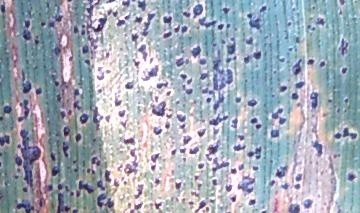tarspot: (15, 128, 42, 193), (84, 1, 111, 50), (308, 112, 324, 158), (209, 49, 225, 90), (88, 104, 104, 134), (237, 172, 256, 195), (123, 149, 139, 176), (141, 11, 156, 39), (55, 191, 70, 213), (205, 139, 220, 161), (141, 64, 159, 82), (246, 12, 262, 32), (17, 98, 30, 122), (208, 113, 230, 127), (76, 178, 94, 195), (150, 102, 169, 118), (211, 156, 229, 172), (212, 91, 226, 110), (21, 19, 33, 41), (197, 17, 218, 29), (308, 90, 319, 111), (339, 35, 349, 58), (291, 58, 303, 77), (274, 164, 288, 180), (138, 43, 149, 63), (95, 65, 106, 83), (270, 106, 284, 120), (192, 3, 204, 19), (122, 135, 138, 147), (226, 37, 236, 56), (129, 32, 139, 51), (16, 202, 33, 213), (95, 192, 106, 209), (133, 183, 144, 200), (174, 111, 189, 123), (131, 57, 141, 75), (113, 90, 123, 108), (61, 140, 70, 159), (190, 45, 203, 58), (1, 133, 12, 148), (152, 125, 163, 140), (181, 134, 193, 147), (287, 201, 300, 213), (21, 80, 32, 94), (229, 117, 240, 131), (243, 34, 254, 48), (225, 67, 233, 86), (253, 147, 262, 163), (104, 167, 112, 185), (194, 201, 206, 213), (90, 155, 102, 167), (155, 81, 171, 90), (72, 99, 83, 112), (274, 53, 287, 64), (50, 164, 60, 178), (232, 142, 246, 152), (96, 179, 105, 194), (269, 128, 280, 140), (246, 98, 258, 109), (210, 126, 221, 138), (196, 127, 207, 139), (177, 123, 188, 135), (161, 30, 173, 41), (161, 14, 173, 25), (136, 1, 147, 13), (114, 17, 126, 28), (346, 171, 357, 183), (302, 197, 313, 209), (123, 80, 136, 90), (104, 196, 114, 209), (62, 125, 71, 139), (314, 16, 325, 27), (294, 79, 305, 90), (252, 49, 262, 61), (317, 58, 327, 70), (188, 146, 200, 156), (198, 72, 210, 82), (53, 13, 65, 23), (122, 201, 132, 213), (341, 126, 350, 139), (175, 56, 184, 69), (38, 195, 46, 209), (133, 201, 144, 211), (118, 120, 129, 130), (197, 57, 208, 67), (13, 155, 22, 167), (180, 23, 189, 35), (74, 132, 82, 145), (151, 152, 159, 165), (53, 45, 61, 58), (305, 57, 315, 67), (173, 180, 183, 190), (124, 9, 134, 19), (247, 197, 257, 207), (79, 113, 88, 124), (35, 86, 44, 97), (3, 104, 12, 115), (349, 131, 358, 142), (225, 183, 234, 194), (117, 108, 126, 119), (44, 184, 55, 193), (279, 182, 290, 191), (113, 177, 120, 191), (242, 53, 250, 65), (188, 190, 200, 198), (173, 21, 180, 34), (220, 6, 230, 15), (258, 4, 267, 14), (290, 92, 300, 101), (278, 85, 288, 94), (233, 95, 243, 104), (235, 133, 245, 142), (228, 194, 238, 203), (196, 161, 205, 171), (153, 201, 162, 211), (178, 146, 188, 155), (53, 79, 62, 89), (200, 85, 209, 95), (237, 162, 246, 172), (104, 114, 112, 125), (182, 10, 193, 18), (294, 172, 302, 183), (341, 96, 350, 105), (245, 150, 254, 159), (195, 181, 203, 191), (121, 178, 129, 188), (179, 71, 187, 81), (186, 76, 194, 86), (294, 35, 302, 45), (253, 123, 264, 130), (116, 162, 123, 173), (59, 109, 66, 120), (183, 88, 194, 95), (55, 93, 62, 104), (81, 44, 88, 55), (121, 1, 132, 8), (340, 65, 348, 74), (333, 131, 341, 140), (326, 96, 334, 105), (278, 117, 287, 125), (249, 116, 258, 124), (251, 163, 259, 172), (149, 164, 157, 173), (153, 177, 161, 186), (169, 147, 177, 156), (83, 58, 92, 66), (67, 54, 75, 63), (293, 182, 302, 190), (211, 178, 218, 188), (152, 94, 159, 104), (184, 57, 191, 67), (34, 35, 41, 45), (50, 151, 56, 162), (1, 3, 7, 14), (217, 23, 225, 31), (192, 174, 200, 182), (134, 15, 142, 23), (111, 9, 119, 17), (39, 19, 47, 27), (75, 190, 82, 199), (72, 88, 81, 95), (332, 152, 341, 159), (57, 181, 63, 191), (67, 109, 73, 119), (337, 8, 343, 18), (165, 90, 172, 98), (48, 21, 55, 29), (268, 180, 275, 188), (334, 106, 341, 114), (71, 207, 80, 213), (337, 1, 346, 7), (85, 167, 91, 176), (180, 81, 186, 90), (206, 97, 212, 106), (226, 56, 232, 65), (104, 68, 113, 74), (104, 50, 110, 59), (293, 45, 299, 54), (342, 106, 348, 115), (209, 197, 215, 206), (73, 24, 78, 34), (71, 159, 78, 166), (204, 205, 210, 213), (96, 88, 104, 94), (105, 1, 117, 5), (80, 29, 86, 37), (231, 167, 237, 175), (286, 20, 292, 28), (287, 46, 293, 54), (225, 23, 232, 29), (72, 167, 78, 174), (80, 23, 87, 29), (306, 23, 313, 29), (310, 5, 316, 11), (181, 157, 188, 162), (91, 137, 97, 142), (91, 168, 95, 175), (259, 209, 266, 213), (1, 115, 4, 124), (233, 54, 236, 62), (131, 1, 134, 5), (66, 1, 72, 3)
